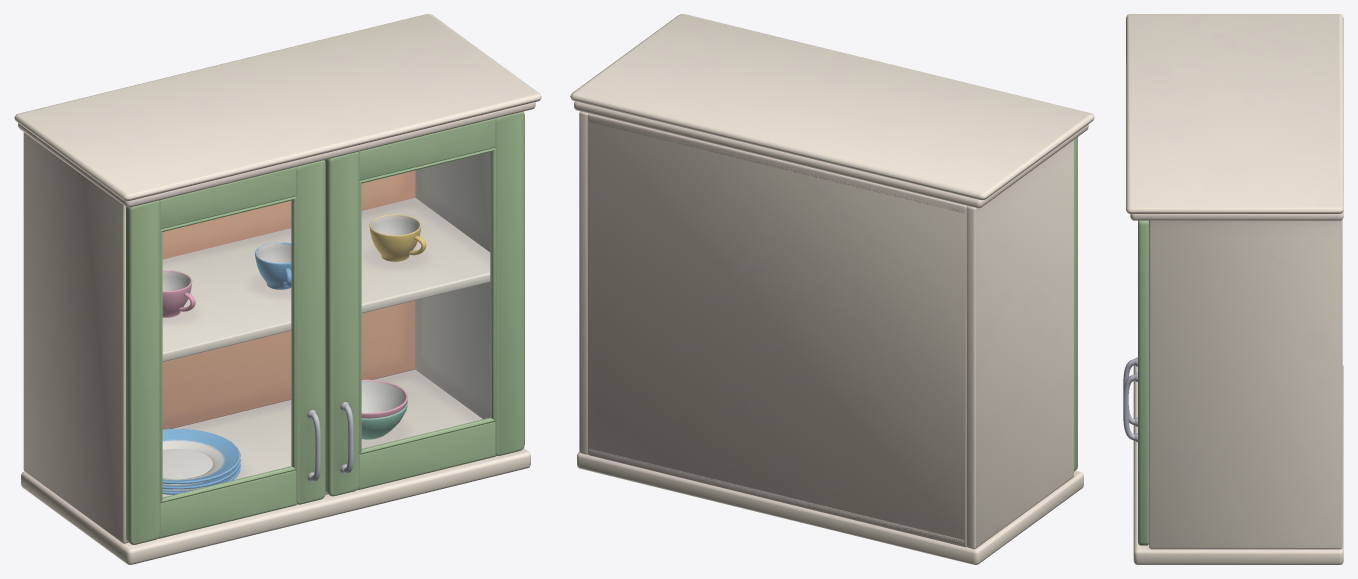
The model's file is kitchen-cabinet.glb.
3 renders of one model, left to right at view 1: azimuth 30°, elevation 25°; view 2: azimuth 150°, elevation 25°; view 3: azimuth 270°, elevation 25°, orthographic. The views are drawn at different scales.
Visible parts, largest first — view 1: kitchen-cabinet_body, kitchen-cabinet_glass_left, kitchen-cabinet_glass_right, kitchen-cabinet_door_left, kitchen-cabinet_door_right; view 2: kitchen-cabinet_body, kitchen-cabinet_door_left; view 3: kitchen-cabinet_body, kitchen-cabinet_door_right.
Part boxes in pixels (bbox=[...]): kitchen-cabinet_body: bbox=[14, 14, 541, 564]; kitchen-cabinet_glass_left: bbox=[163, 201, 291, 497]; kitchen-cabinet_glass_right: bbox=[362, 152, 490, 448]; kitchen-cabinet_door_left: bbox=[126, 160, 325, 544]; kitchen-cabinet_door_right: bbox=[325, 111, 524, 496]; kitchen-cabinet_body: bbox=[570, 14, 1094, 564]; kitchen-cabinet_door_left: bbox=[1074, 137, 1077, 471]; kitchen-cabinet_body: bbox=[1126, 14, 1343, 564]; kitchen-cabinet_door_right: bbox=[1123, 220, 1148, 545].
Bounding box in the file's own units: 0.84 × 0.72 × 0.3988.
5 materials, 3 textured.
